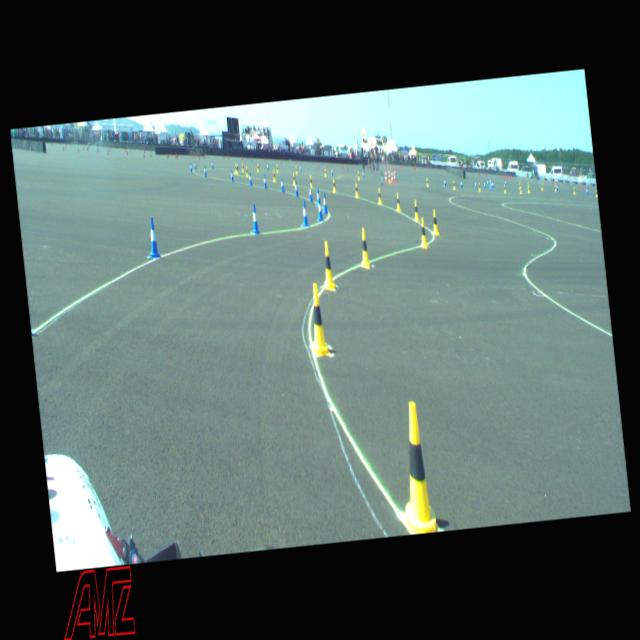blue_cone: (146, 217, 160, 258), (249, 203, 260, 235), (314, 196, 324, 222), (300, 199, 308, 227), (320, 192, 328, 214), (314, 186, 321, 208), (307, 184, 313, 203), (292, 180, 298, 197), (279, 176, 284, 192), (262, 174, 266, 189), (248, 172, 252, 186), (203, 164, 207, 177), (230, 168, 233, 182), (189, 161, 192, 172), (482, 180, 486, 188), (443, 178, 446, 187), (361, 170, 364, 179), (330, 167, 333, 176), (585, 187, 588, 195), (210, 160, 213, 168), (489, 178, 492, 185), (194, 160, 196, 170), (236, 160, 238, 170), (460, 179, 462, 188), (299, 164, 301, 173), (492, 180, 494, 189), (474, 180, 476, 188), (266, 162, 268, 170), (556, 183, 558, 191), (490, 181, 492, 189), (486, 178, 488, 186), (504, 179, 506, 186)
large_orange_cone: (392, 168, 396, 182), (387, 168, 390, 182), (390, 170, 393, 183), (384, 168, 386, 182)
yellow_cone: (388, 399, 441, 535), (304, 282, 330, 356), (320, 241, 336, 290), (358, 227, 370, 268), (418, 217, 428, 249), (430, 208, 439, 236), (412, 198, 419, 222), (394, 192, 400, 211), (352, 182, 358, 198), (377, 187, 382, 204), (331, 177, 336, 193), (308, 173, 312, 187), (272, 168, 276, 182), (292, 172, 296, 185), (244, 165, 248, 178), (452, 180, 456, 190), (294, 165, 298, 174), (235, 163, 238, 174), (594, 189, 598, 197), (256, 162, 259, 172), (356, 170, 359, 180), (240, 162, 243, 172), (572, 187, 576, 194), (503, 184, 506, 193), (275, 164, 278, 172), (518, 182, 521, 190), (323, 168, 326, 176), (540, 182, 543, 190), (234, 162, 236, 173), (426, 176, 428, 187), (519, 186, 522, 193), (478, 182, 480, 192), (528, 184, 530, 193), (528, 182, 530, 191), (554, 184, 556, 192), (388, 174, 390, 182)
